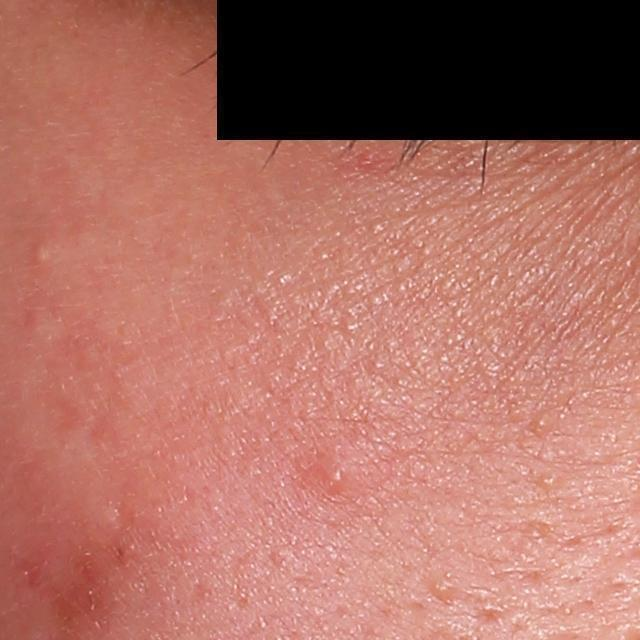comedo: (426, 571, 467, 604), (539, 474, 557, 488)
